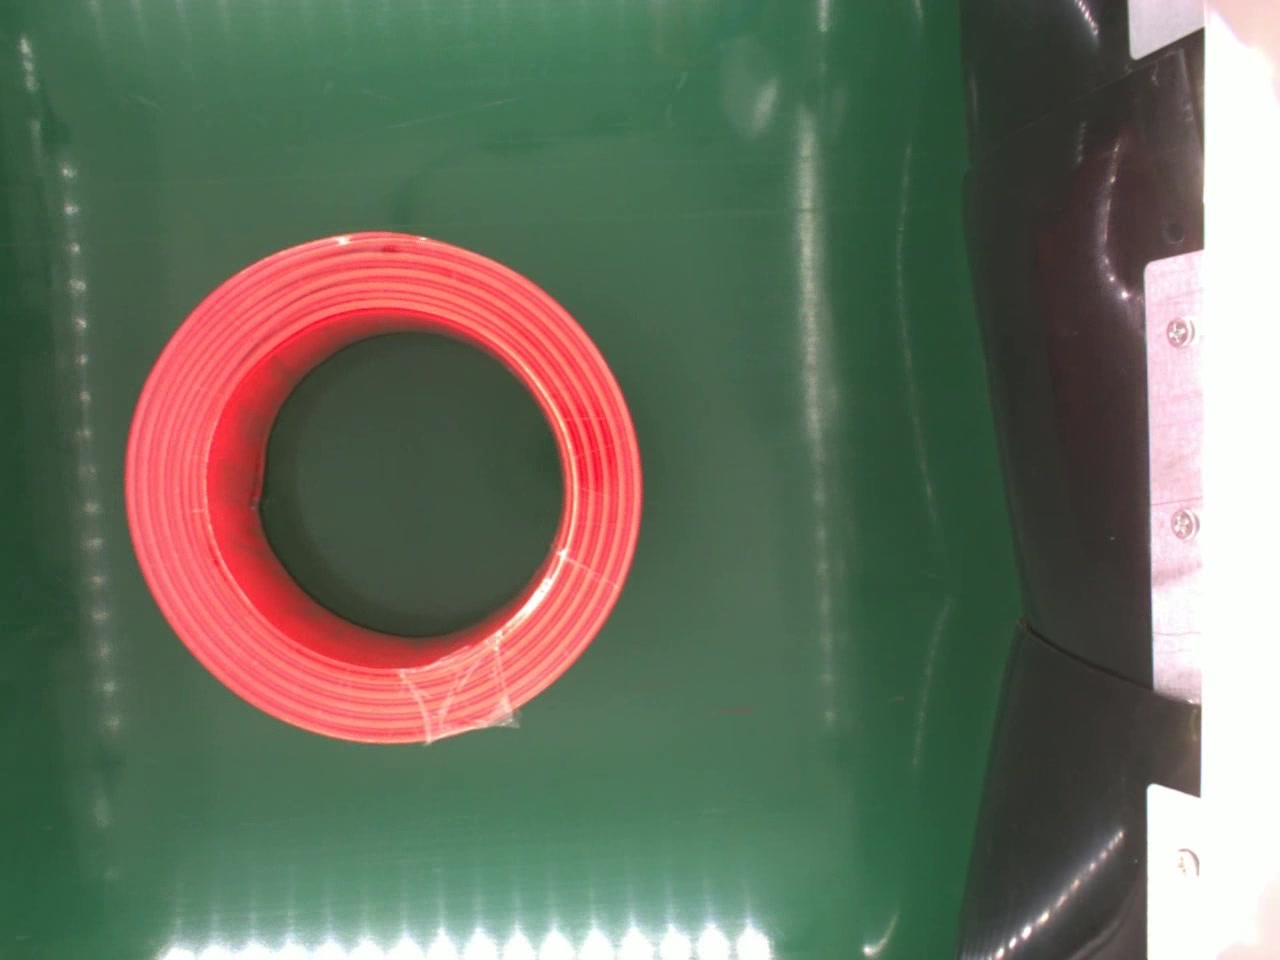red: (121, 230, 642, 748)
